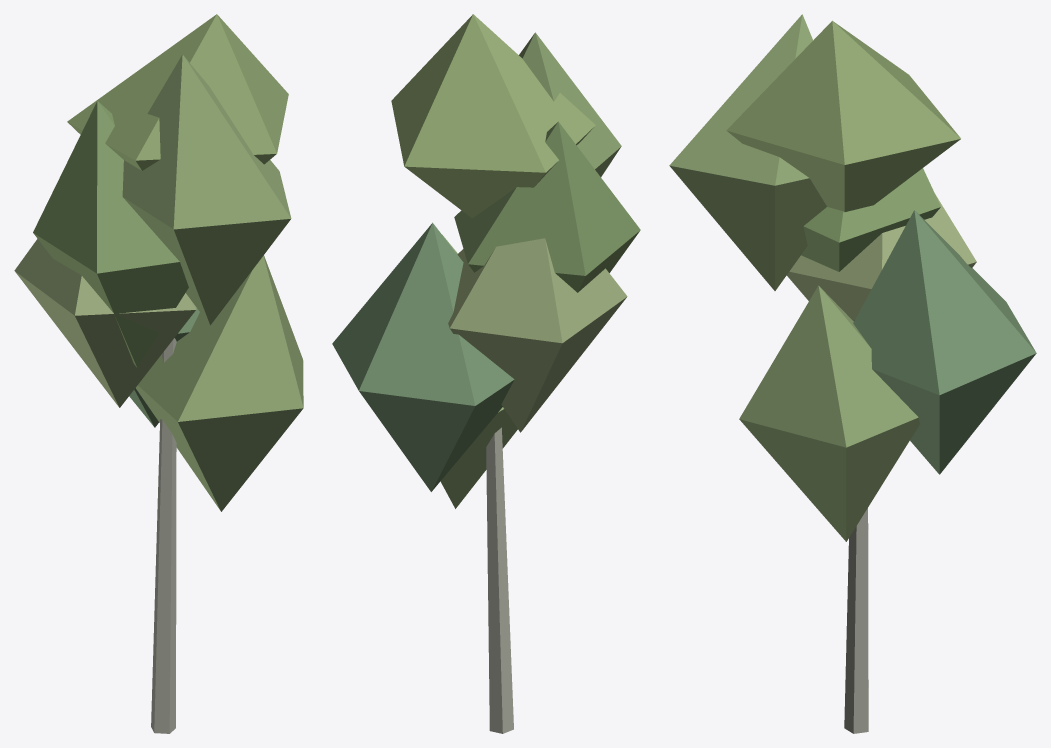
3 renders of one model, left to right at view 1: azimuth 30°, elevation 25°; view 2: azimuth 150°, elevation 25°; view 3: azimuth 270°, elevation 25°, orthographic. The views are drawn at different scales.
Bounding box in the file's own units: 5.55 × 15.56 × 7.11.
